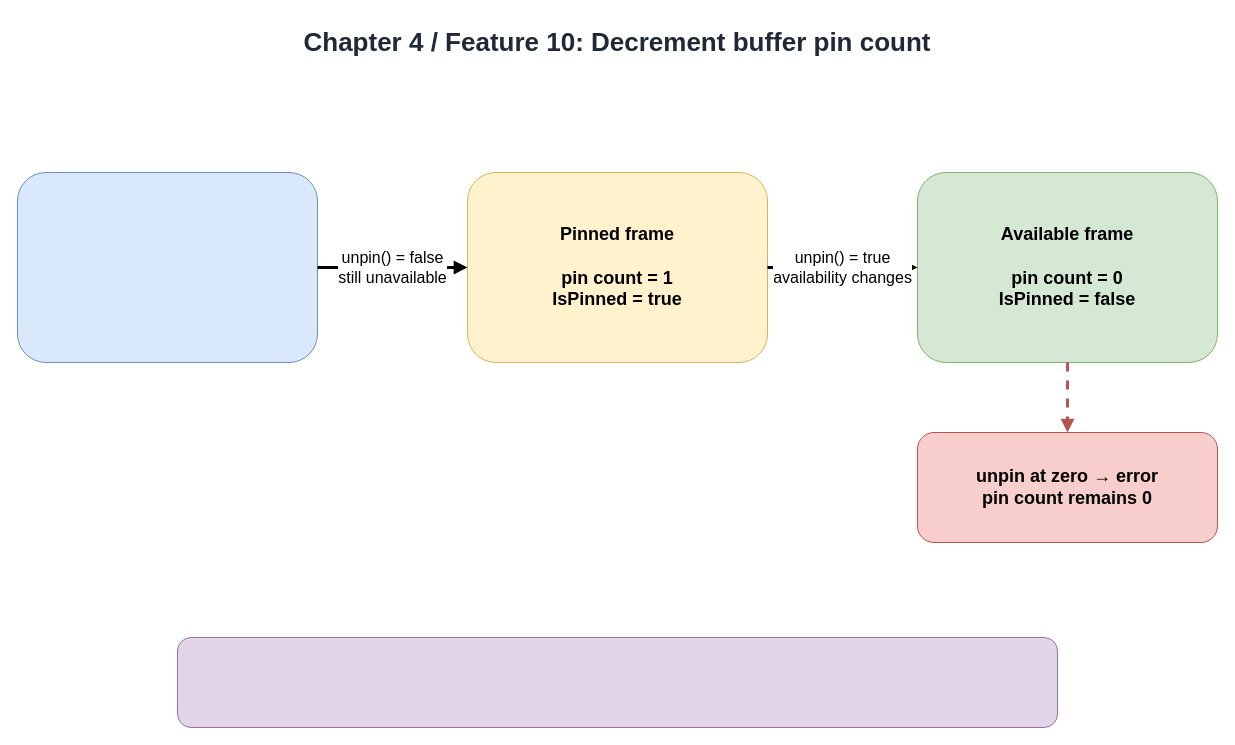
Some shapes in this 1235 by 745 pixel diagram are drawn without their labels. Each missing label, with the centre of its shape:
"Only 1 → 0 returns available. Underflow is rejected without changing state." goes at (617,682).
"Shared frame pin count = 2 IsPinned = true" goes at (167,267).
